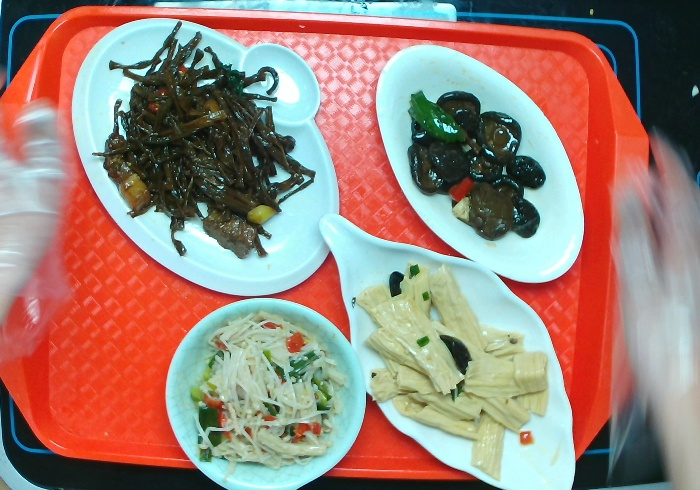RJxy-Bai_Se_Tuo_Yuan: (370, 41, 588, 289)
RJxy-Shu_Ye_Pan: (313, 210, 580, 490)
RJxy-Xiao_Jiao_Yuan_Wan: (165, 297, 369, 490)
RJxy-Zhan_Liao_Pan: (66, 13, 345, 301)
